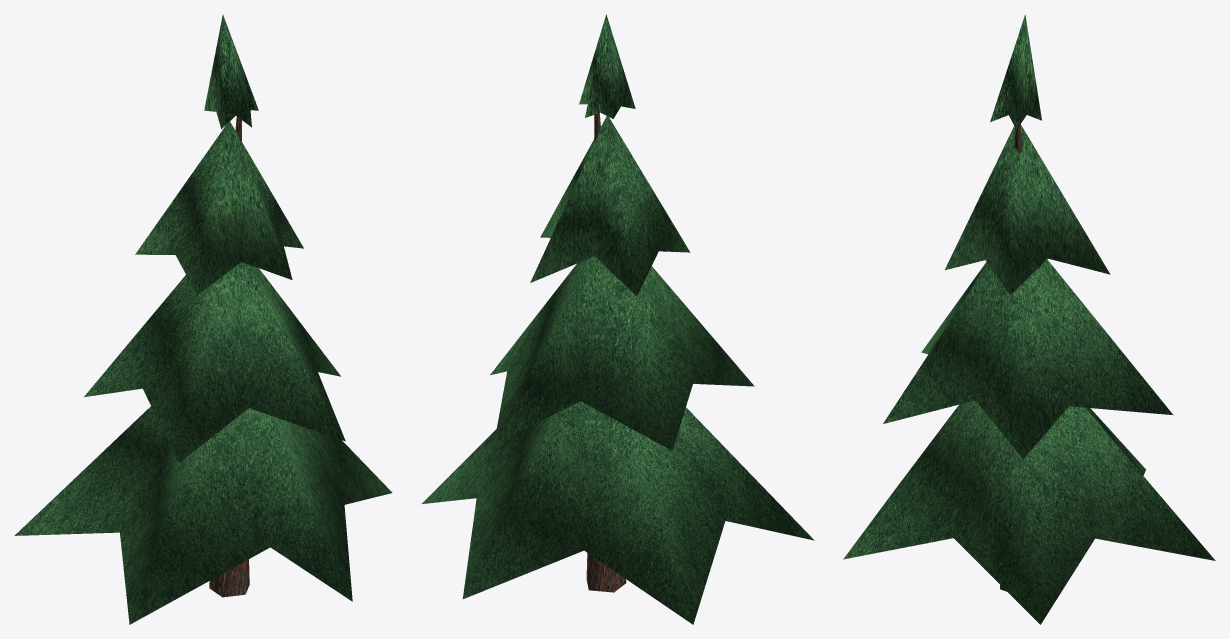
Rendered from fir_1_lod2.glb.
3 renders of one model, left to right at view 1: azimuth 30°, elevation 25°; view 2: azimuth 150°, elevation 25°; view 3: azimuth 270°, elevation 25°, orthographic.
Visible parts, largest first — view 1: fir_1_lod2; view 2: fir_1_lod2; view 3: fir_1_lod2.
Boxes of the visible parts, left/top/right/bottom form: fir_1_lod2: left=14, top=14, right=392, bottom=624; fir_1_lod2: left=421, top=14, right=814, bottom=624; fir_1_lod2: left=843, top=14, right=1215, bottom=624.
Size of the model in its own units: 5.75 by 9.6 by 5.68.
2 materials, 2 textured.
